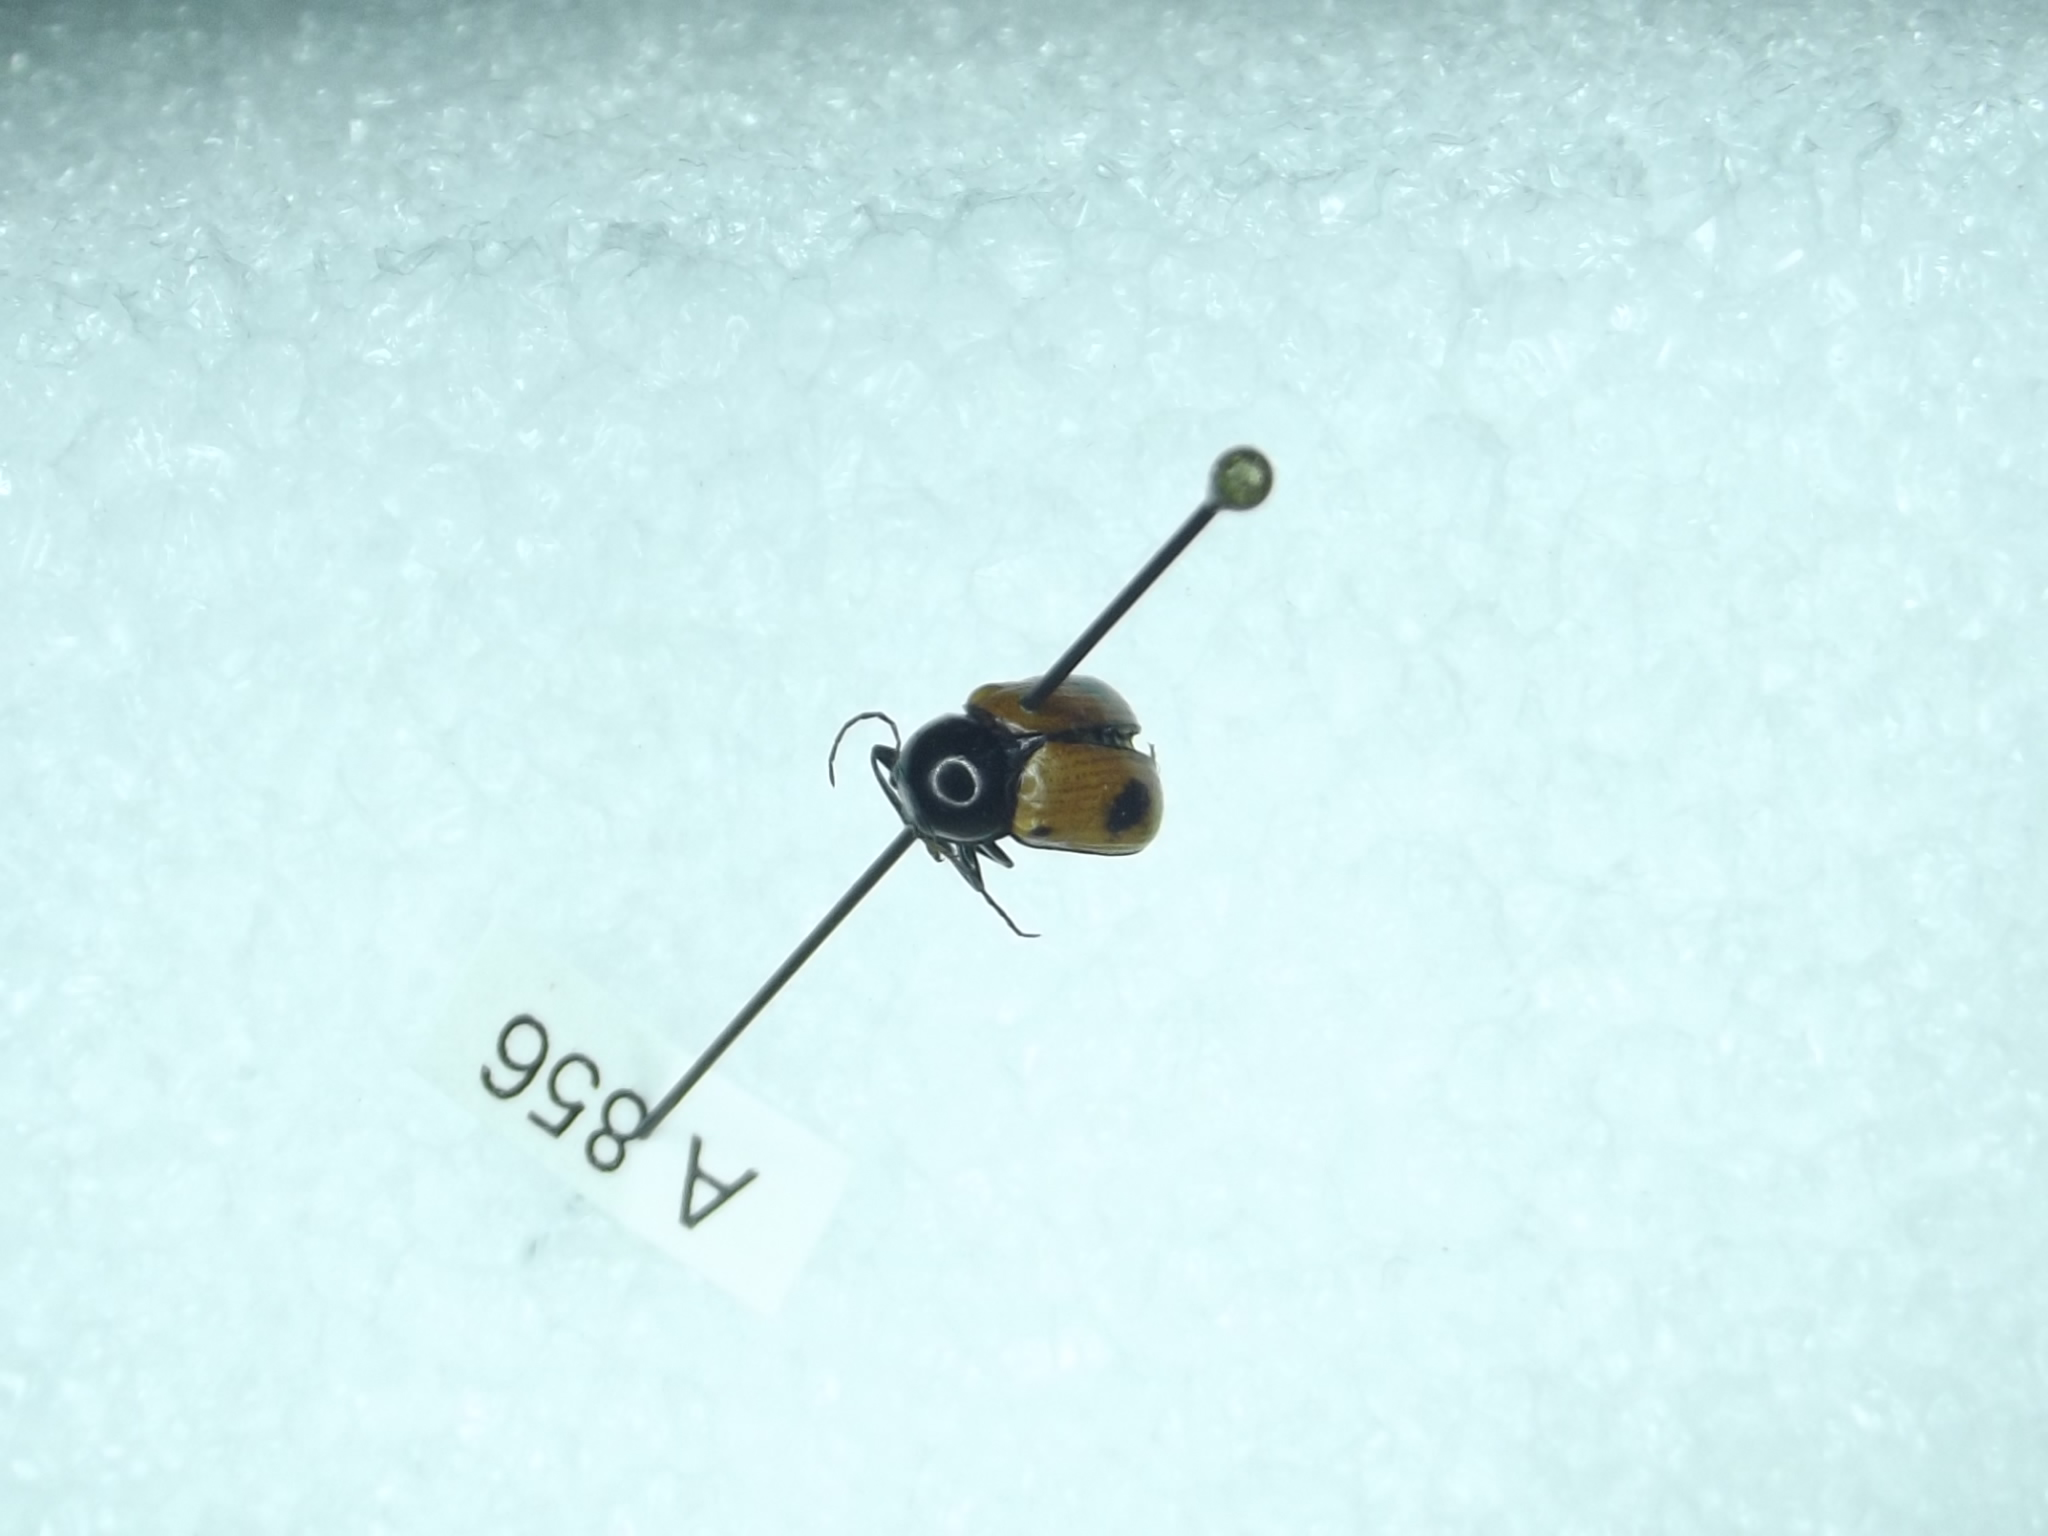Cryptocephalus_bipunctatus: (839, 670, 1185, 947)
